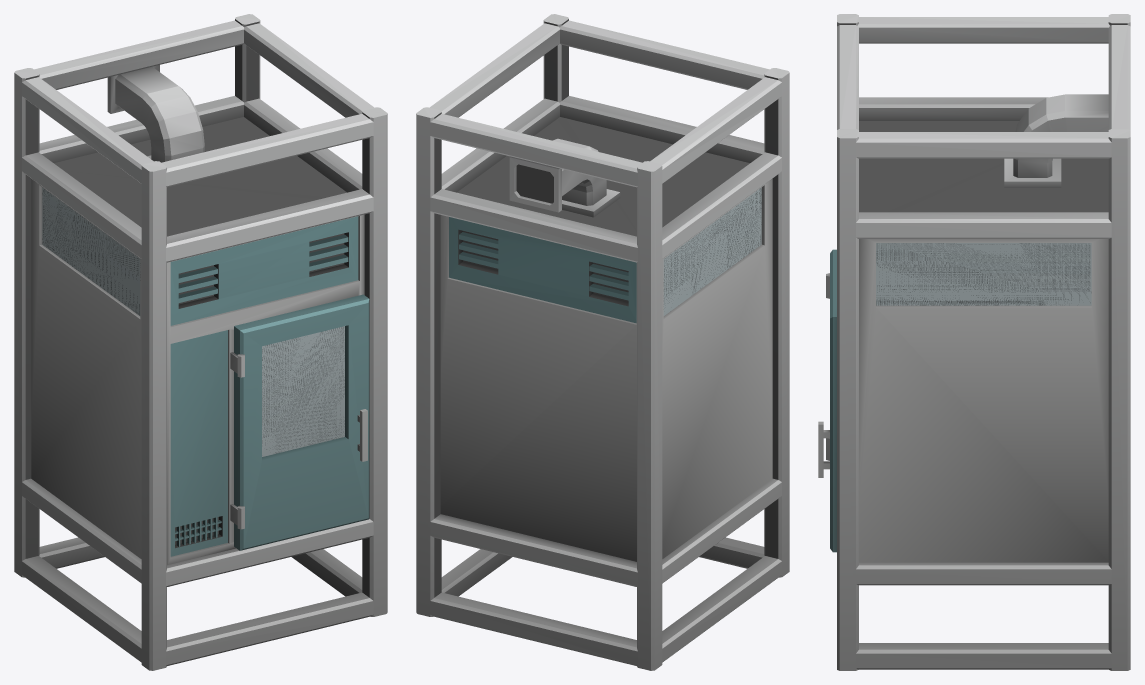
The model's file is vented.glb.
3 views of the same model, side by side, from view 1: azimuth 30°, elevation 25°; view 2: azimuth 150°, elevation 25°; view 3: azimuth 270°, elevation 25° (orthographic). The views are drawn at different scales.
Visible parts, largest first — view 1: vented; view 2: vented; view 3: vented.
Part boxes in pixels (x1,y1,x2,y2): vented: [14, 14, 387, 670]; vented: [416, 14, 789, 670]; vented: [818, 14, 1130, 670].
Bounding box in the file's own units: 0.6 × 1.2 × 0.638.
